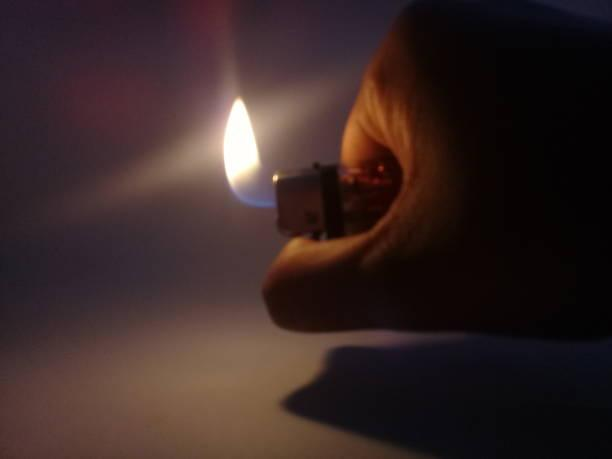Fire: (221, 95, 277, 211)
